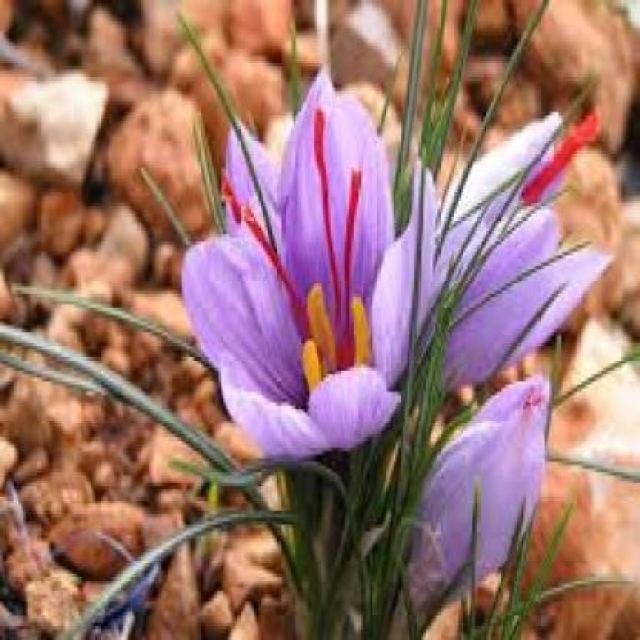saffron closed: (410, 378, 550, 612), (445, 208, 611, 385)
saffron open: (184, 74, 436, 459)
